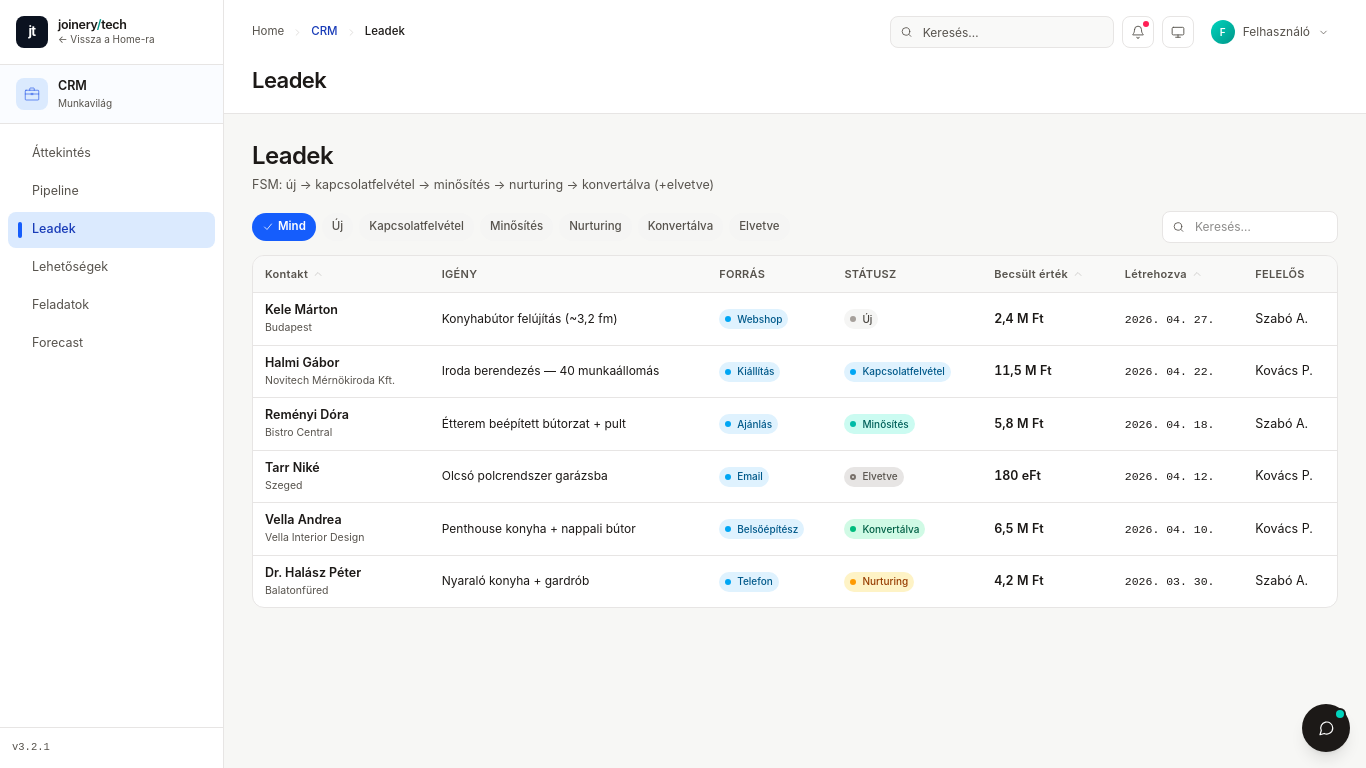
Test: CrmPage (route-diszpécser, API-vezérelt képernyők) › clicking a lead opens the detail SlideOver with FSM actions
Click the text "Kele Márton". click: (302, 311)
box: [265,301,338,320]
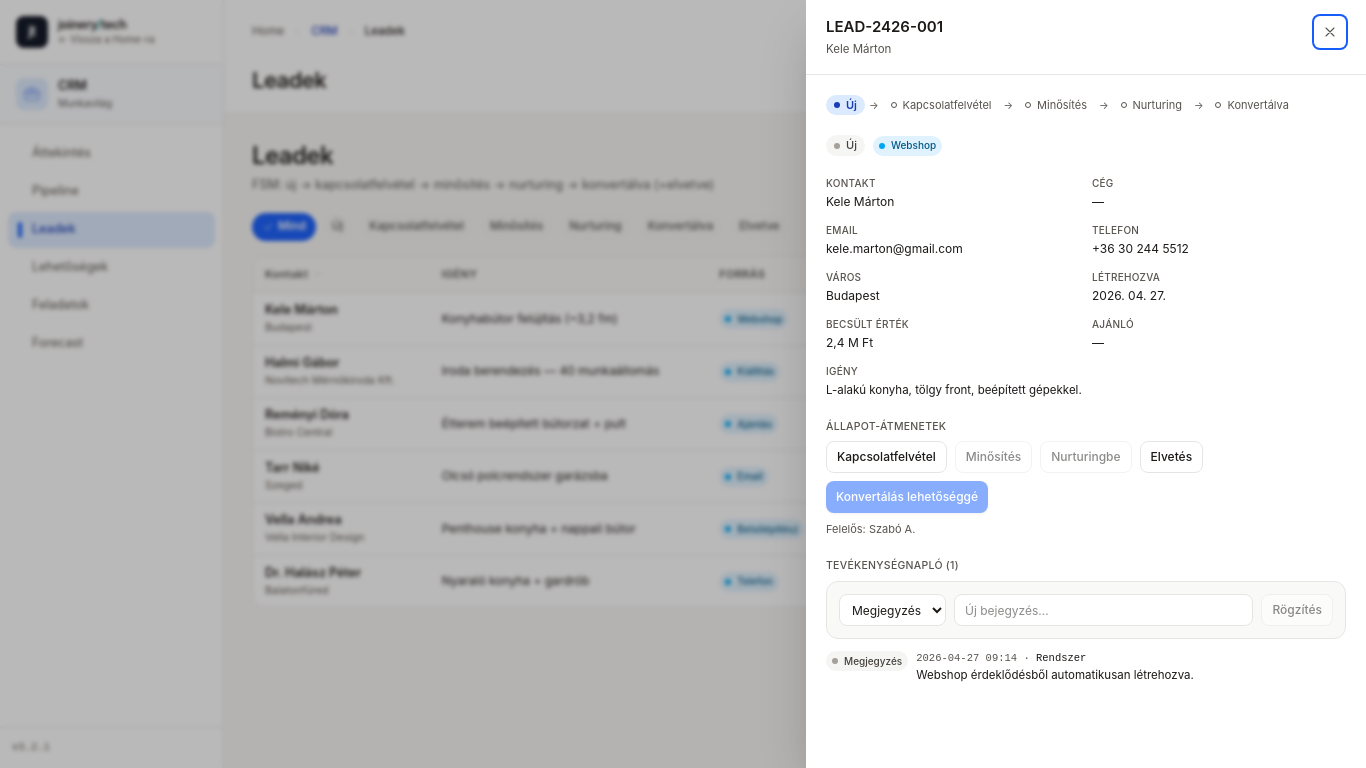
Result: the text "Tevékenységnapló (1)" is shown at [826,559,959,572]
